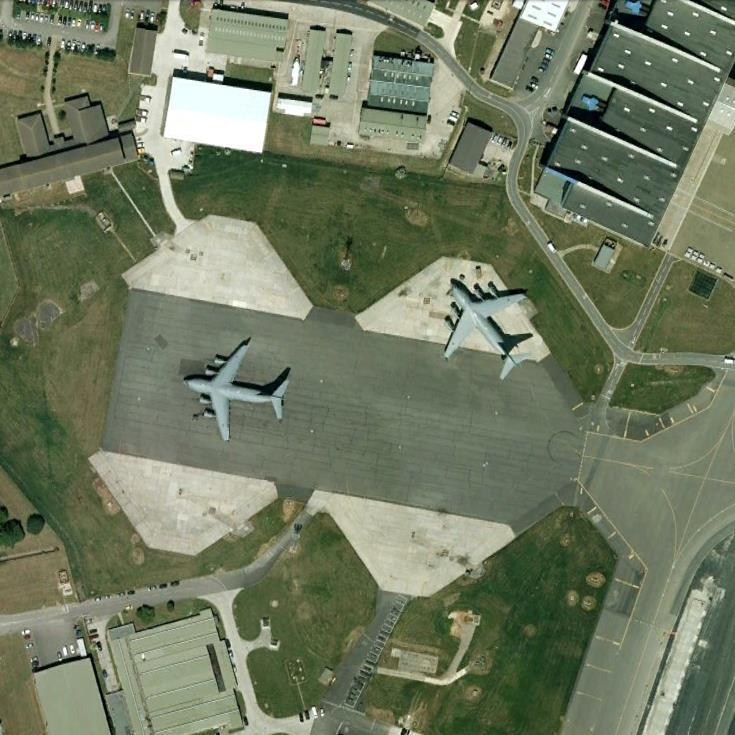A3: (179, 335, 294, 444), (441, 276, 537, 382)
